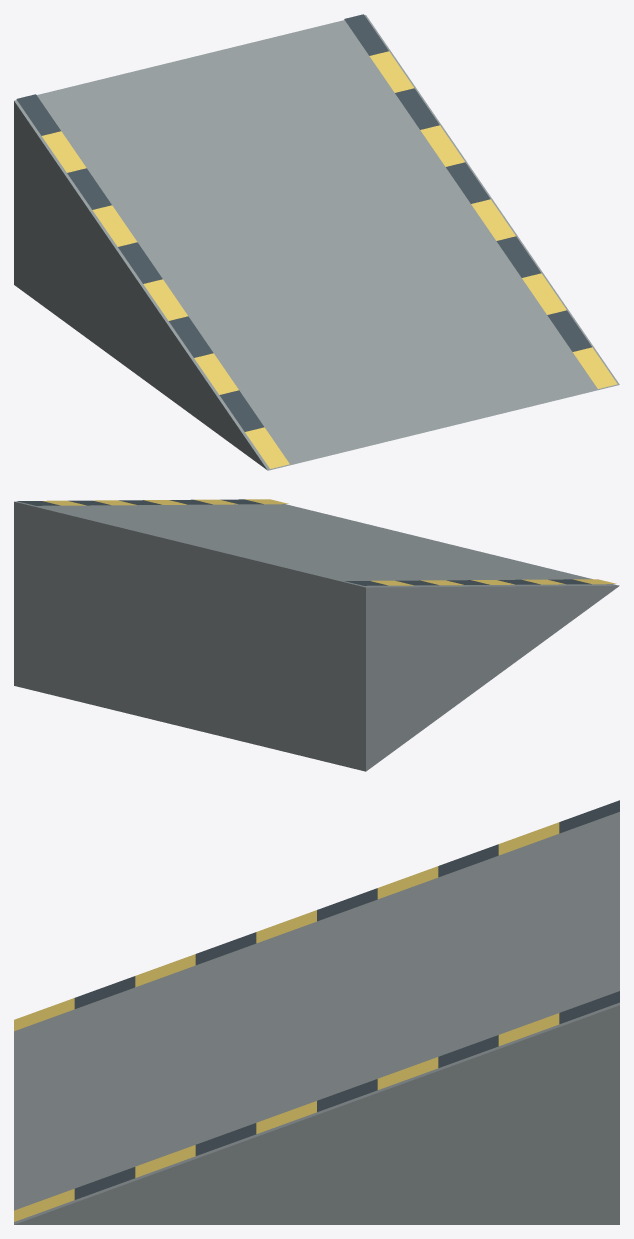
Rendered from dock_ramp.glb.
3 views of the same model, one above another, from view 1: azimuth 30°, elevation 25°; view 2: azimuth 150°, elevation 25°; view 3: azimuth 270°, elevation 25° (orthographic). The views are drawn at different scales.
Visible parts, largest first — view 1: Industrial_dock_ramp; view 2: Industrial_dock_ramp; view 3: Industrial_dock_ramp.
Part boxes in pixels (x1=…): Industrial_dock_ramp: x1=14, y1=14, x2=619, y2=470; Industrial_dock_ramp: x1=14, y1=499, x2=619, y2=771; Industrial_dock_ramp: x1=14, y1=800, x2=619, y2=1224.
Size of the model in its own units: 1.6 by 0.805 by 2.
